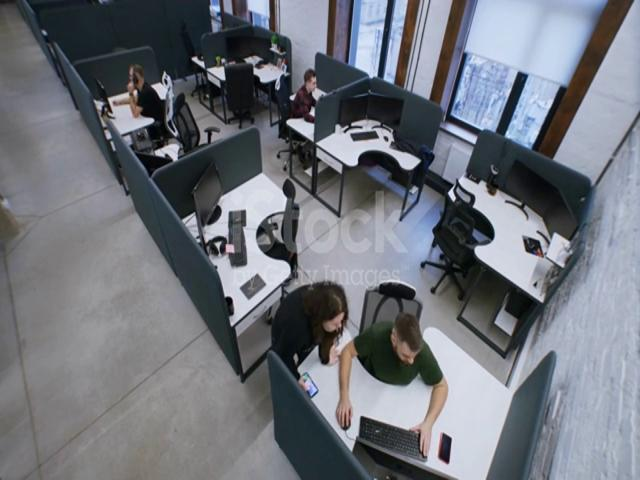empty chair: (434, 164, 484, 298), (262, 174, 312, 274), (215, 54, 257, 134), (177, 17, 215, 101), (178, 92, 224, 157)
occupiedchair: (355, 278, 433, 378), (274, 55, 338, 174), (120, 41, 180, 146)
